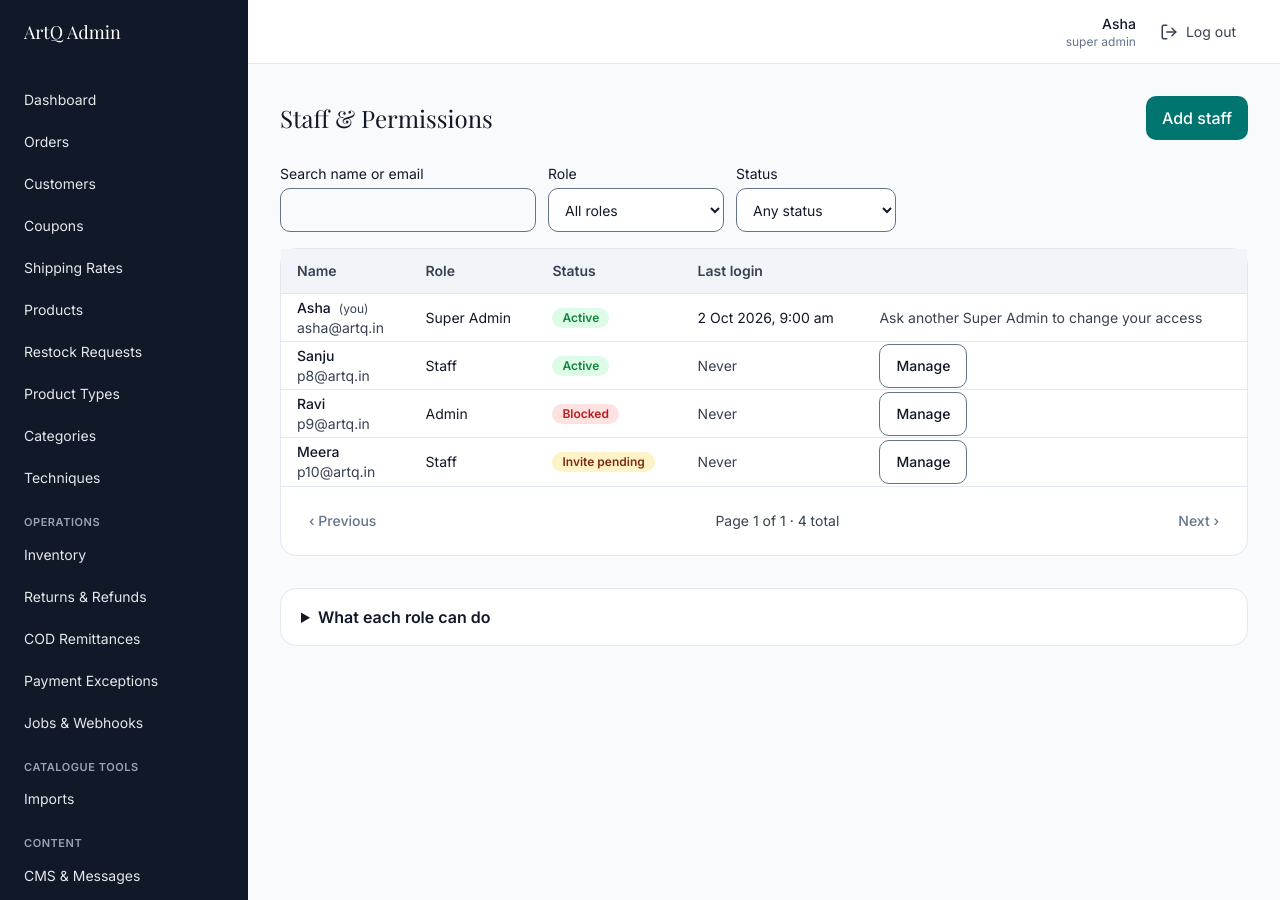
Test: Manage staff › block: cancel sends nothing; confirm POSTs /block
This screenshot has width=1280, height=900.
Click the button with aria-label "Manage Sanju" at (923, 366), box [879,344,967,388]
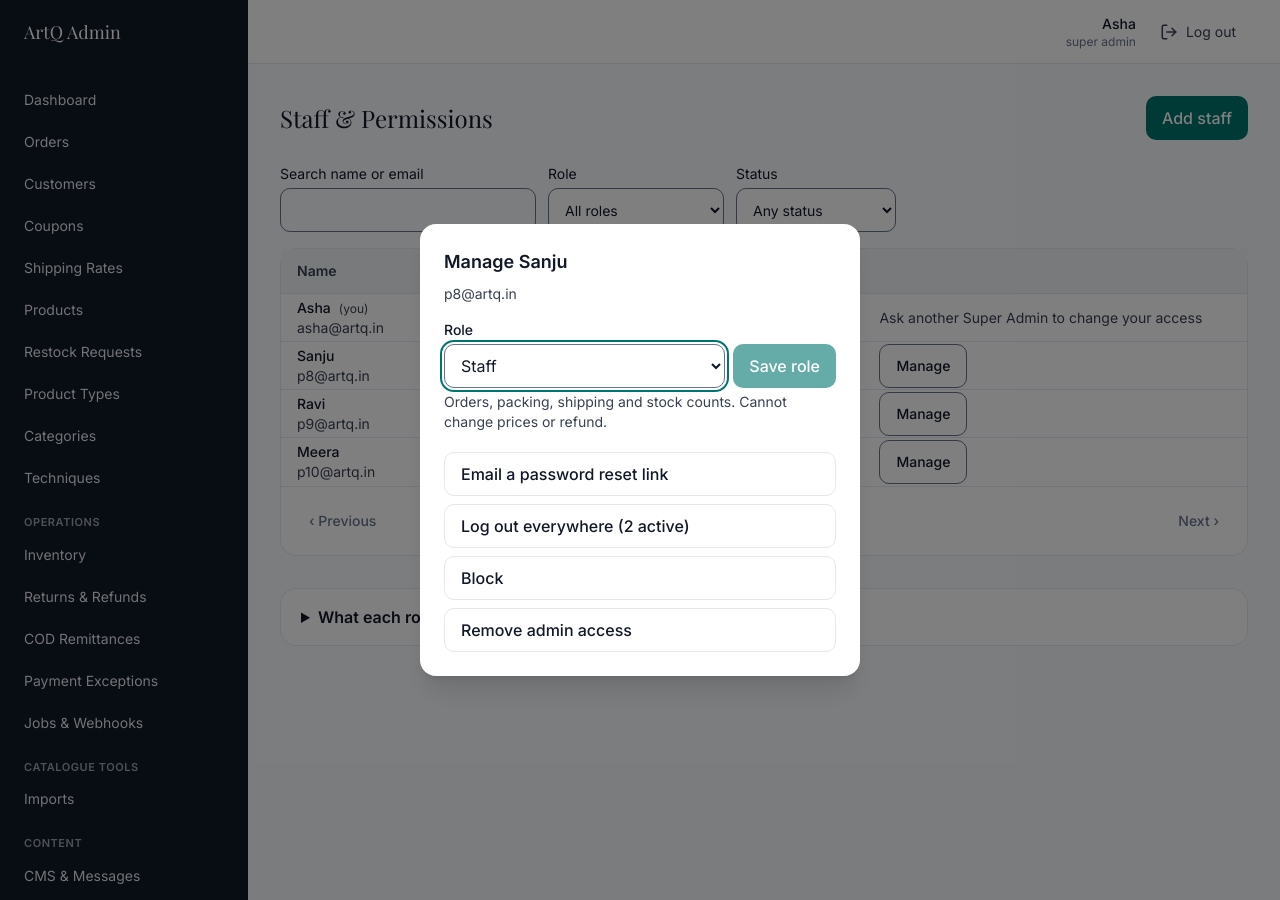
Click the button "Block" at (482, 578), box [444,556,836,600]
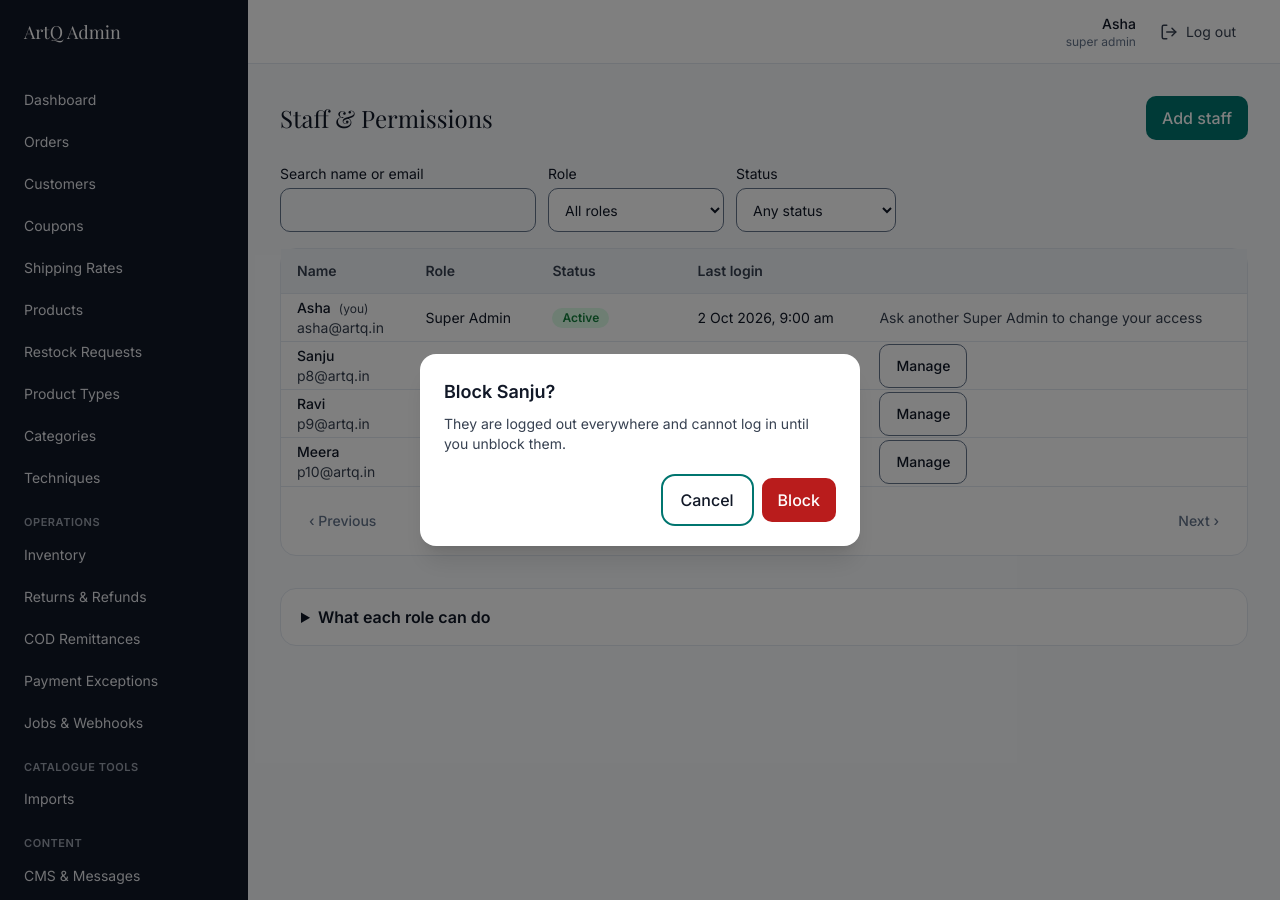
Click the button "Cancel" at (707, 500), box [664,478,750,522]
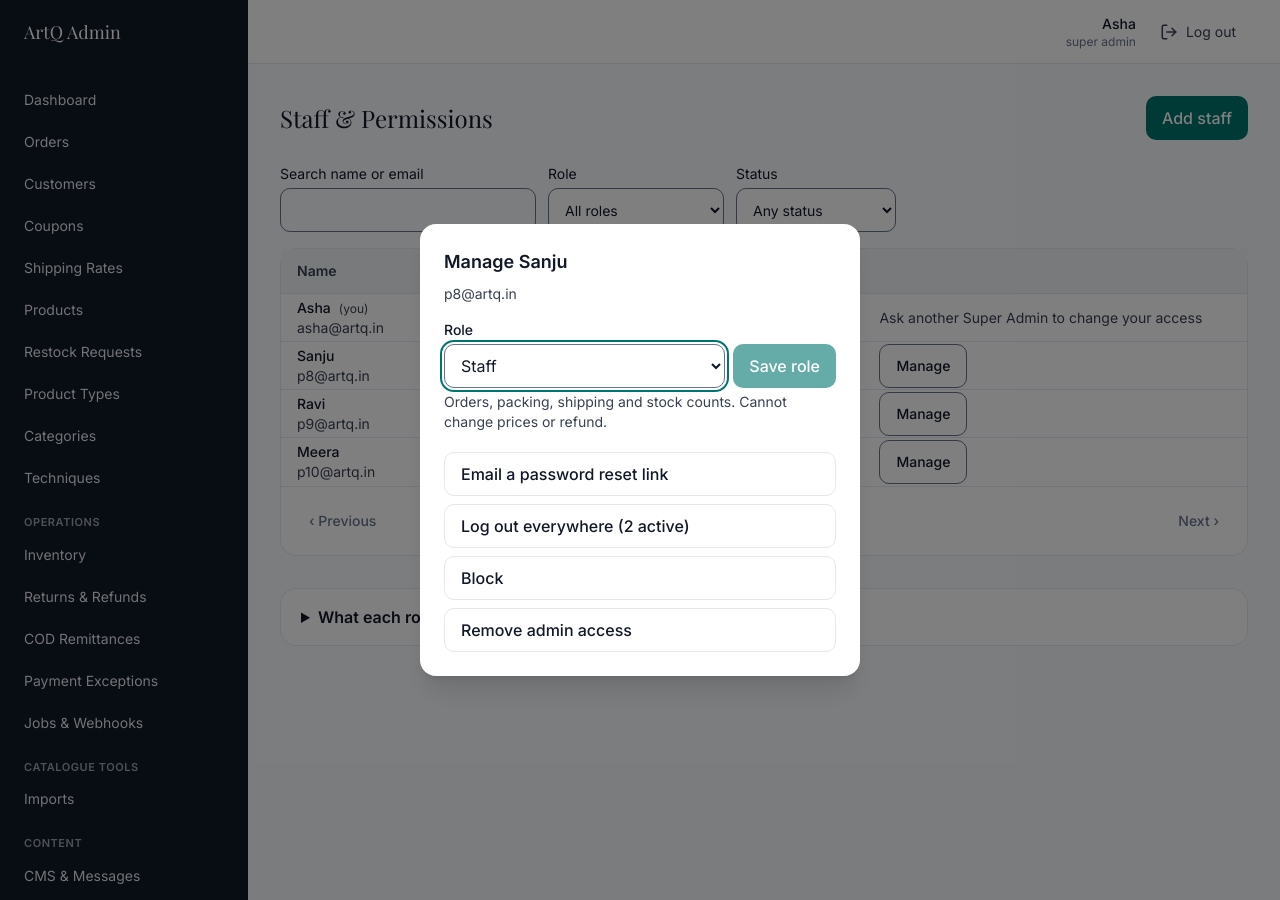
Click the button "Block" at (482, 578), box [444,556,836,600]
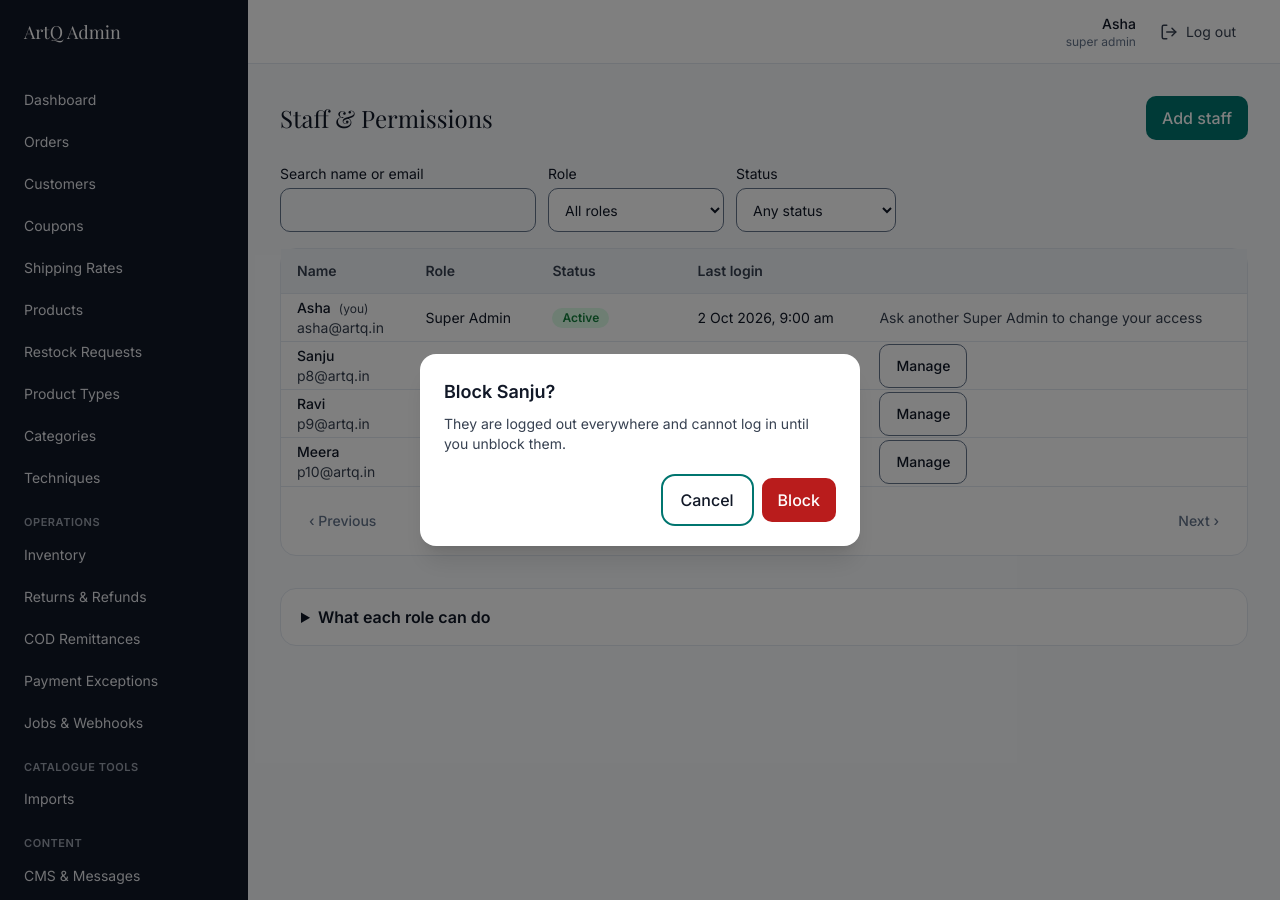
Click the button "Block" at (799, 500), box [762,478,836,522]
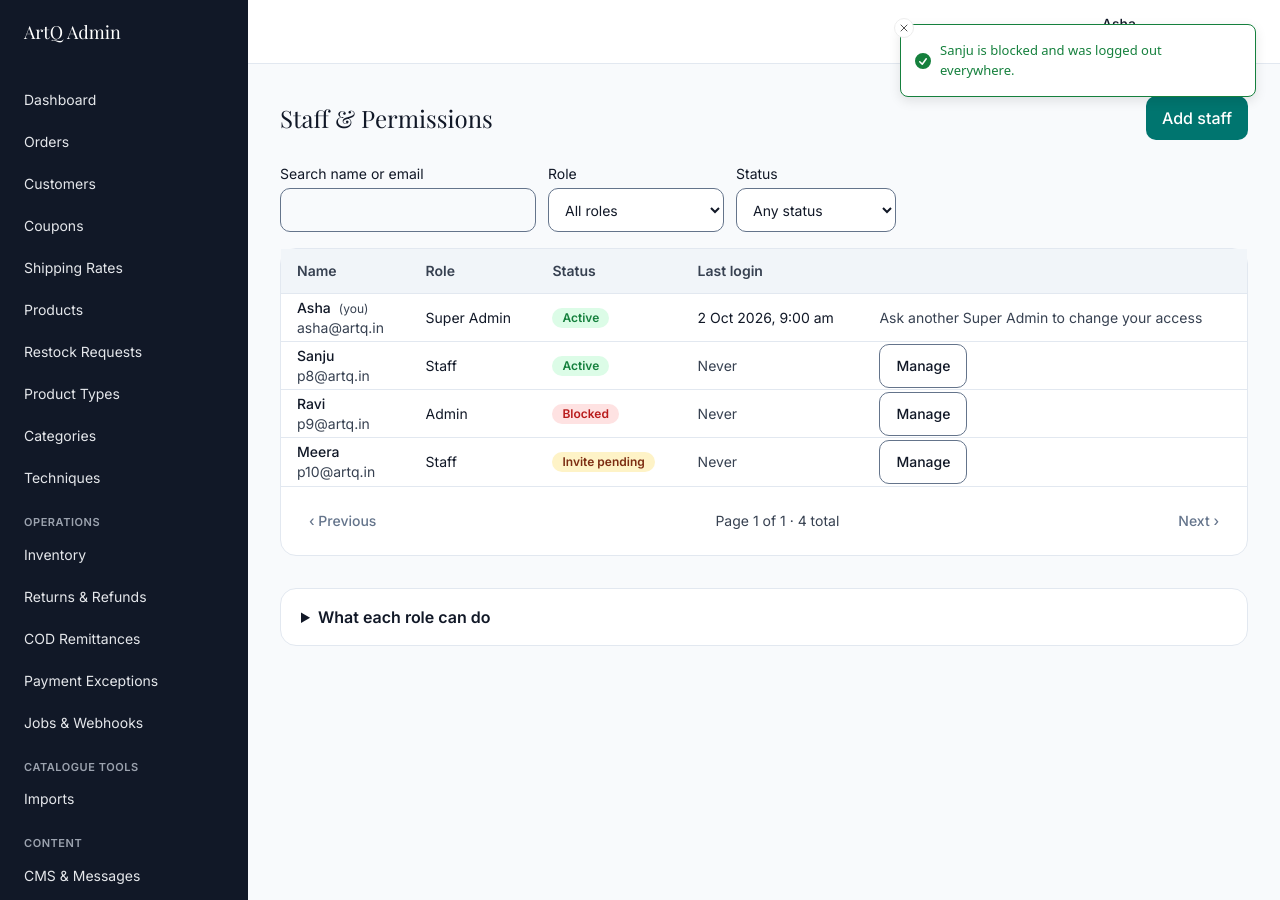
Check: the text "Sanju is blocked and was logged out everywhere." is shown, box [940,41,1162,78]
